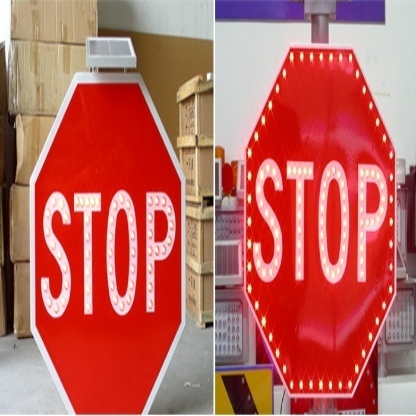stop: (246, 43, 397, 399), (29, 72, 185, 416)
